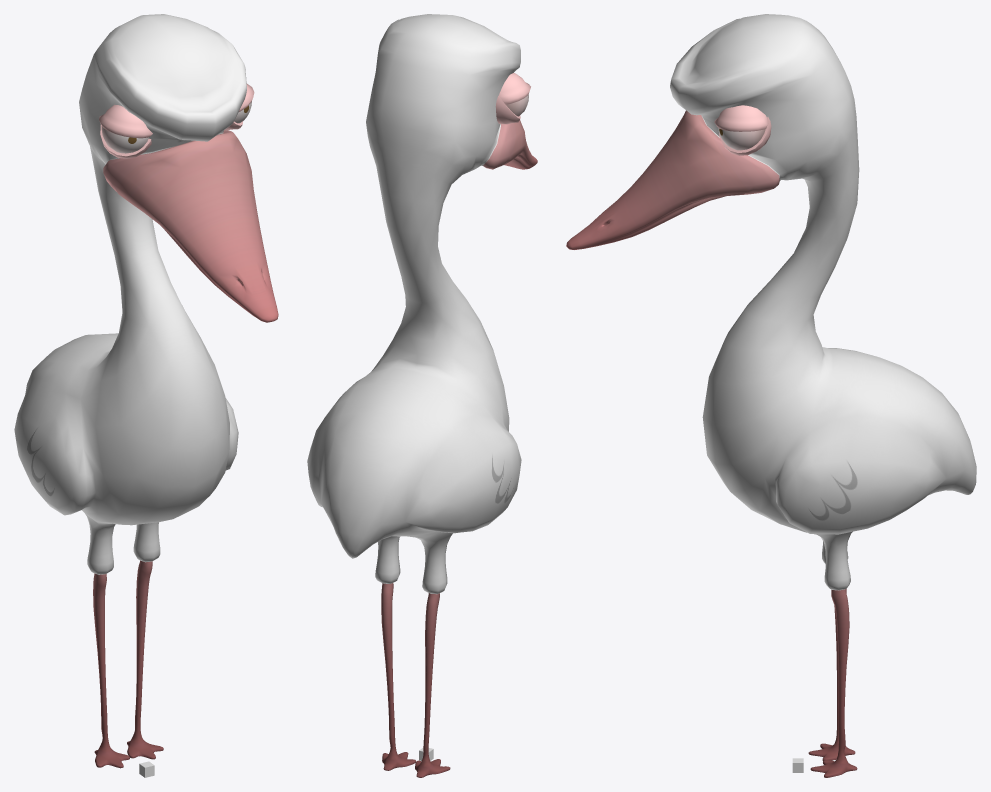
Rendered from long-duck.glb.
The picture shows the model from 3 angles, left to right: view 1: azimuth 30°, elevation 25°; view 2: azimuth 150°, elevation 25°; view 3: azimuth 270°, elevation 25°; orthographic projection. The views are drawn at different scales.
Parts seen in each view (by area): view 1: duck.001; view 2: duck.001; view 3: duck.001.
Boxes of the visible parts, <box> form: duck.001: <box>14,14,278,768</box>; duck.001: <box>307,14,537,777</box>; duck.001: <box>566,14,976,777</box>.
Bounding box in the file's own units: 38.52 × 150 × 74.52.
7 materials, 4 textured.
